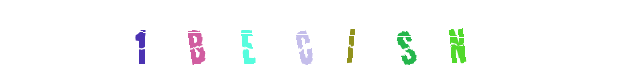1: (101, 0, 181, 80)
B: (156, 0, 236, 80)
C: (263, 0, 343, 80)
E: (216, 0, 296, 80)
I: (277, 0, 357, 80)
N: (396, 0, 476, 80)
S: (311, 0, 391, 80)
